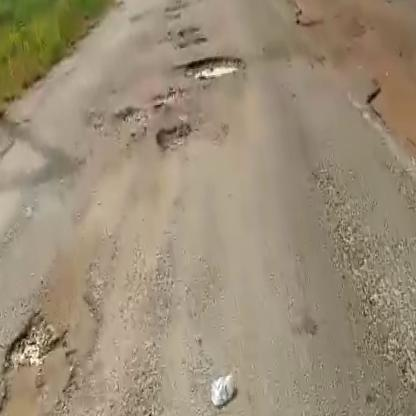pothole: (0, 304, 89, 416), (184, 50, 247, 83), (153, 116, 200, 149)
